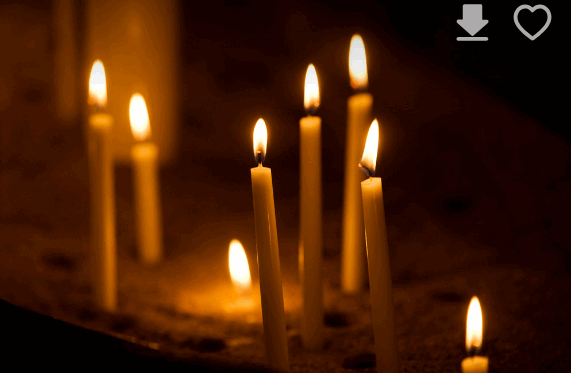Fire: (456, 285, 496, 352), (349, 117, 393, 174), (295, 57, 331, 116), (242, 112, 280, 160)
